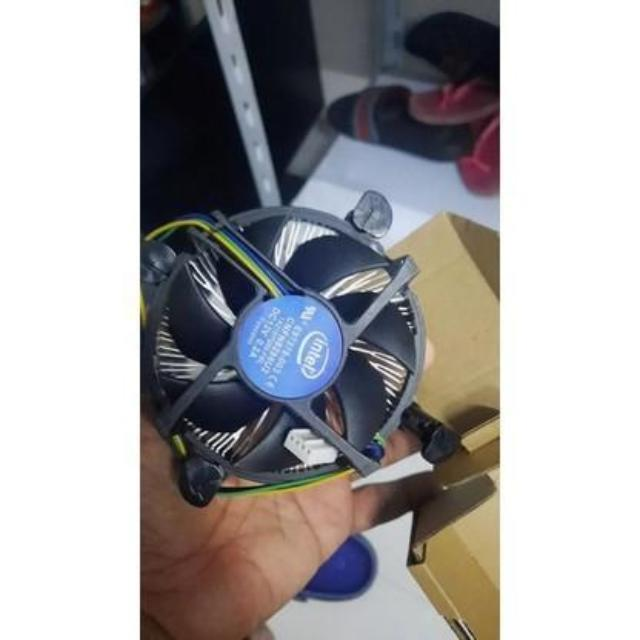CPU_Fan: (134, 188, 457, 510)
